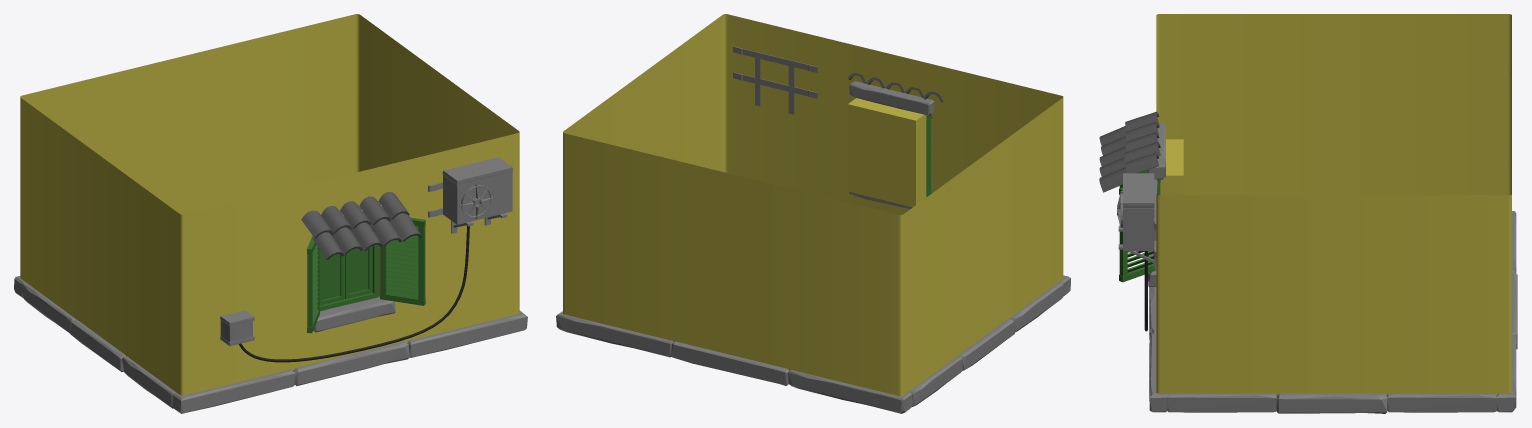
File: SM_building_modular_1x1_03.fbx
The picture shows the model from 3 angles, left to right: view 1: azimuth 30°, elevation 25°; view 2: azimuth 150°, elevation 25°; view 3: azimuth 270°, elevation 25°; orthographic projection. The views are drawn at different scales.
Visible parts, largest first — view 1: Object32362; view 2: Object32362; view 3: Object32362.
Boxes of the visible parts, <box> form: Object32362: <box>14,14,527,413</box>; Object32362: <box>556,14,1070,413</box>; Object32362: <box>1099,14,1517,413</box>.
Size of the model in its own units: 212 by 113 by 199.
